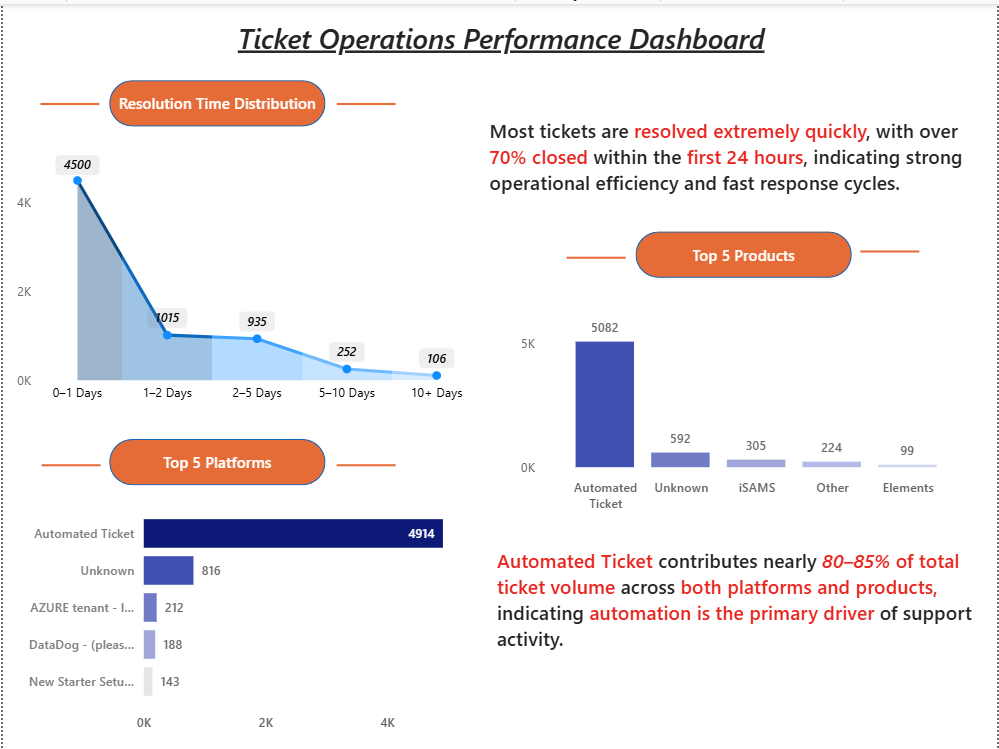

What the dashboard file says about the page in this screenshot:
{"tool":"powerbi","page":{"name":"Resolution Analysis","canvas":[960,720],"ordinal":1},"visuals":[{"type":"textbox","box":[200.3,9.7,561,55.5],"z":0},{"type":"shape","box":[102.5,73.6,208.7,44.6],"z":1000},{"type":"shape","box":[36.2,77.2,56.7,38.6],"z":2000},{"type":"shape","box":[322.1,77.2,56.7,38.6],"z":3000},{"type":"shape","box":[610.5,219.6,208.7,44.6],"z":4000},{"type":"shape","box":[544.1,225.6,56.7,38.6],"z":5000},{"type":"shape","box":[827.6,219.6,56.7,38.6],"z":6000},{"type":"areaChart","fields":{"Category":["Dataset.Resolution Bucket"],"Y":["CountNonNull(Dataset.Issue id)"]},"box":[8.4,135.1,450,258.2],"z":7000},{"type":"columnChart","fields":{"Category":["Dataset.Ops Product Name"],"Y":["CountNonNull(Dataset.Issue id)"]},"box":[494.6,288.3,442.8,209.9],"z":7001},{"type":"barChart","fields":{"Category":["Dataset.Ops Platform"],"Y":["CountNonNull(Dataset.Issue id)"]},"box":[12.1,474.1,452.4,234],"z":7002},{"type":"shape","box":[102.5,419.8,208.7,44.6],"z":7003},{"type":"textbox","box":[464.5,105,479,102.5],"z":7004},{"type":"textbox","box":[471.7,520,471.7,136.3],"z":7005},{"type":"shape","box":[322.1,425.9,56.7,38.6],"z":7006},{"type":"shape","box":[37.4,425.9,56.7,38.6],"z":7007}]}

Visuals, with their boxes in screenshot pixels (x1, y1, x2, y2), scaled from the page's 960x720 canvas onto the 999x749 screenshot:
textbox: rect(208, 10, 792, 68)
shape: rect(107, 77, 324, 123)
shape: rect(38, 80, 97, 120)
shape: rect(335, 80, 394, 120)
shape: rect(635, 228, 852, 275)
shape: rect(566, 235, 625, 275)
shape: rect(861, 228, 920, 269)
areaChart - Dataset.Resolution Bucket x CountNonNull(Dataset.Issue id): rect(9, 141, 477, 409)
columnChart - Dataset.Ops Product Name x CountNonNull(Dataset.Issue id): rect(515, 300, 975, 518)
barChart - Dataset.Ops Platform x CountNonNull(Dataset.Issue id): rect(13, 493, 483, 737)
shape: rect(107, 437, 324, 483)
textbox: rect(483, 109, 982, 216)
textbox: rect(491, 541, 982, 683)
shape: rect(335, 443, 394, 483)
shape: rect(39, 443, 98, 483)
